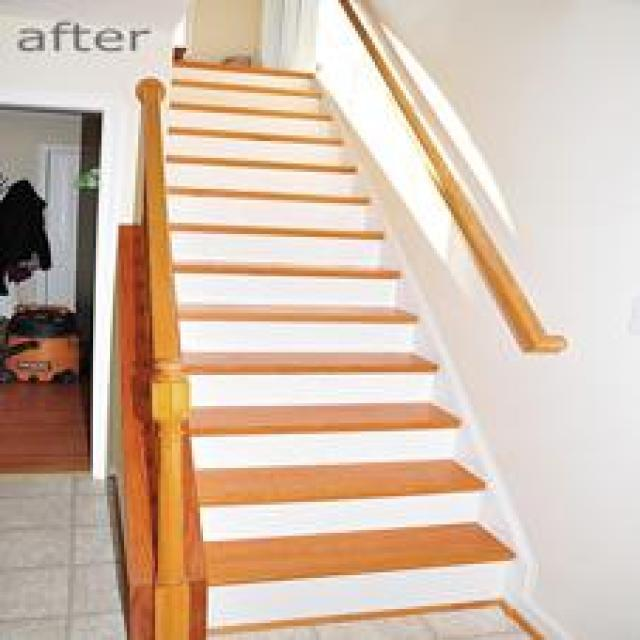stair: (195, 466, 553, 635)
